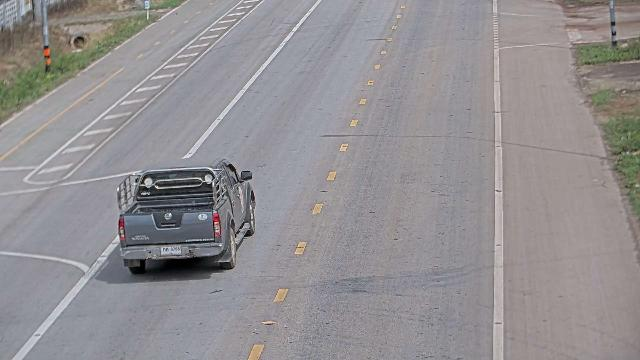pickup-truck: (115, 157, 256, 274)
